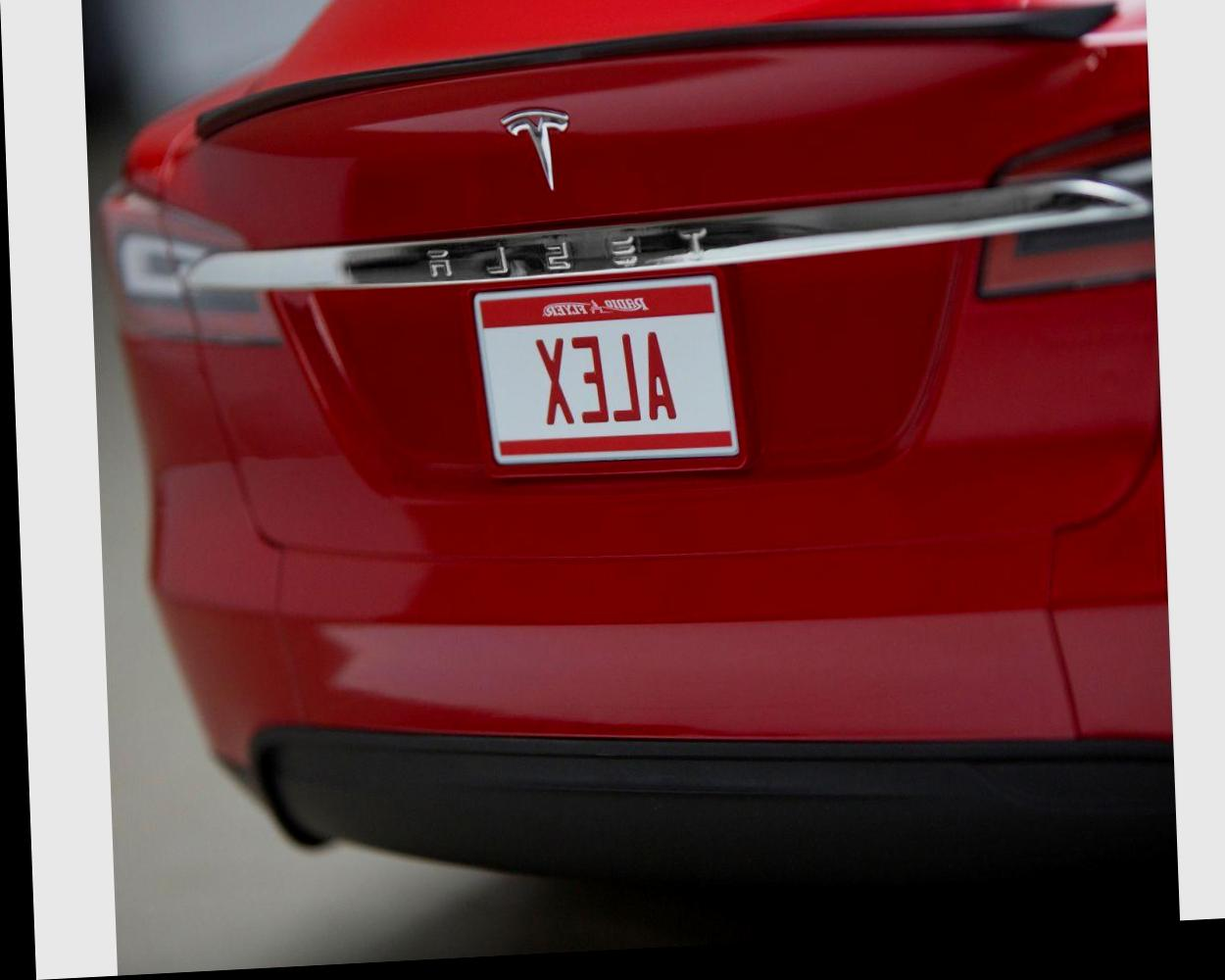License_Plate: (478, 266, 746, 473)
